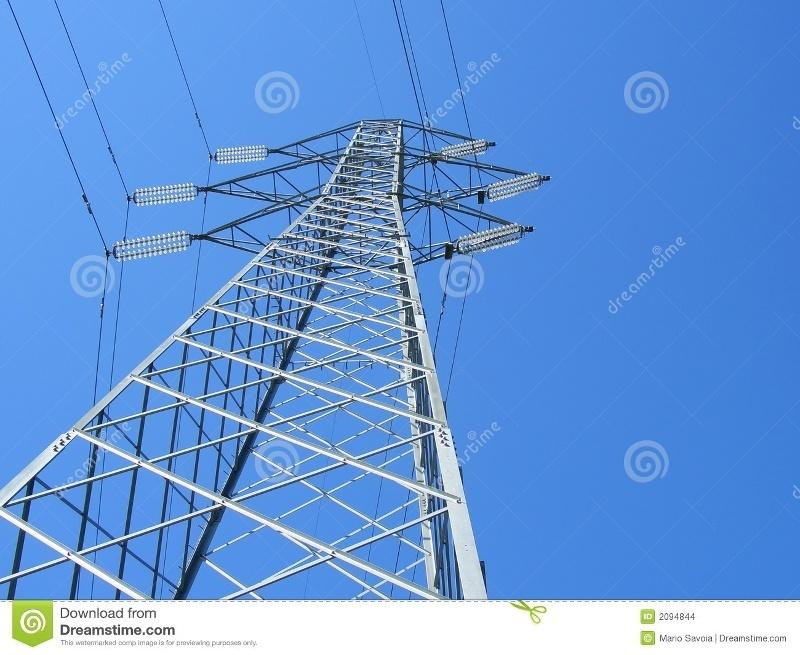power_tower: (13, 92, 560, 594)
